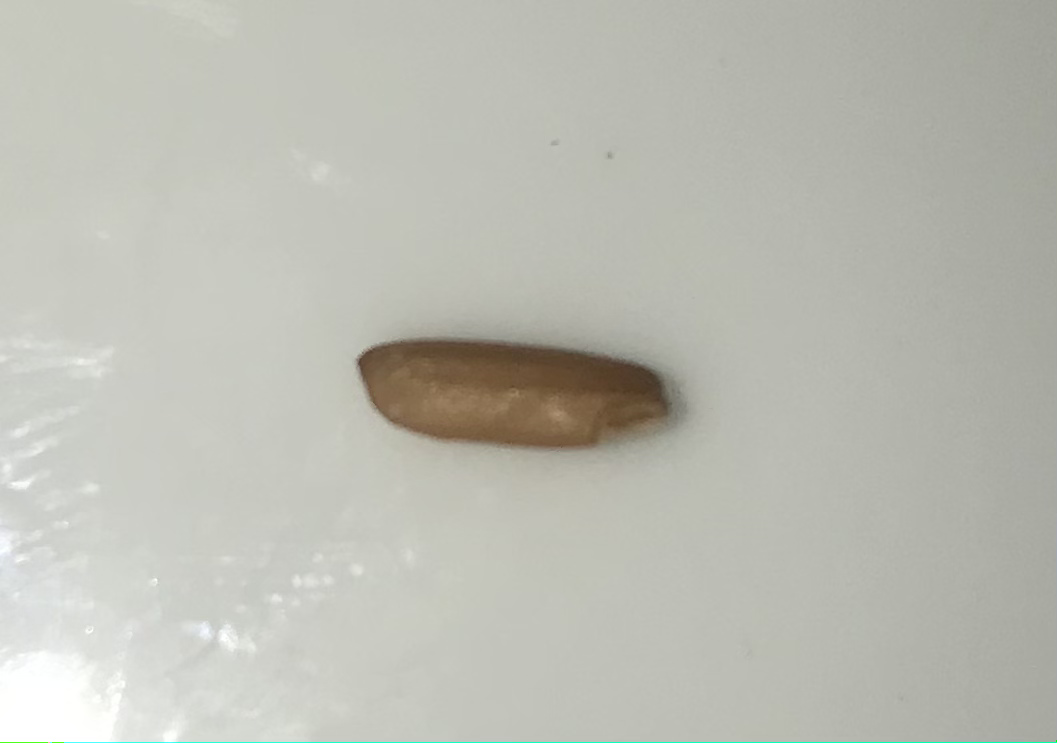Gao Lut Dien Bien: (353, 331, 668, 450)
